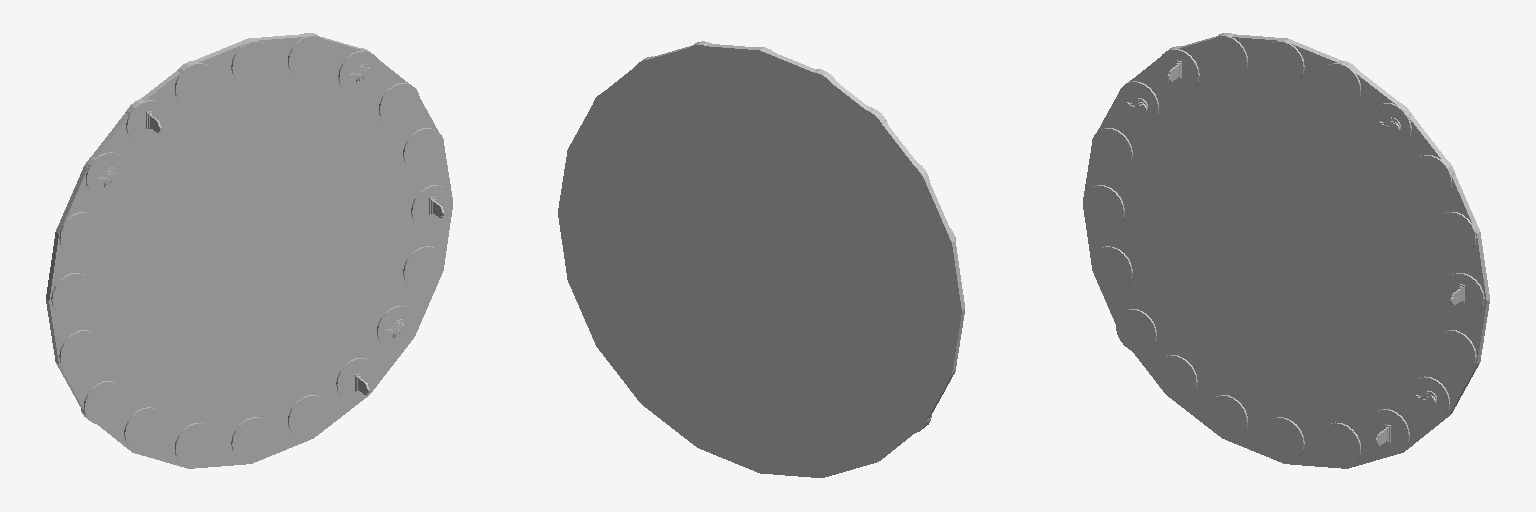
Rendered from Heresy.obj.
3 views of the same model, side by side, from view 1: azimuth 30°, elevation 25°; view 2: azimuth 150°, elevation 25°; view 3: azimuth 330°, elevation 25° (orthographic).
Visible parts, largest first — view 1: obj_0; view 2: obj_0; view 3: obj_0.
Part boxes in pixels (x1,y1,x2,y2): obj_0: (46, 33, 452, 468); obj_0: (558, 41, 964, 477); obj_0: (1083, 33, 1489, 468).
Size of the model in its own units: 200 by 200 by 14.